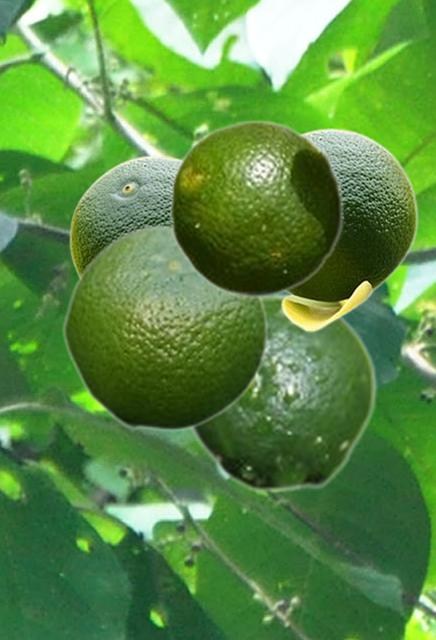calamansi: (61, 222, 268, 431), (186, 293, 377, 493), (168, 119, 344, 297), (278, 128, 417, 331), (69, 155, 181, 275)
